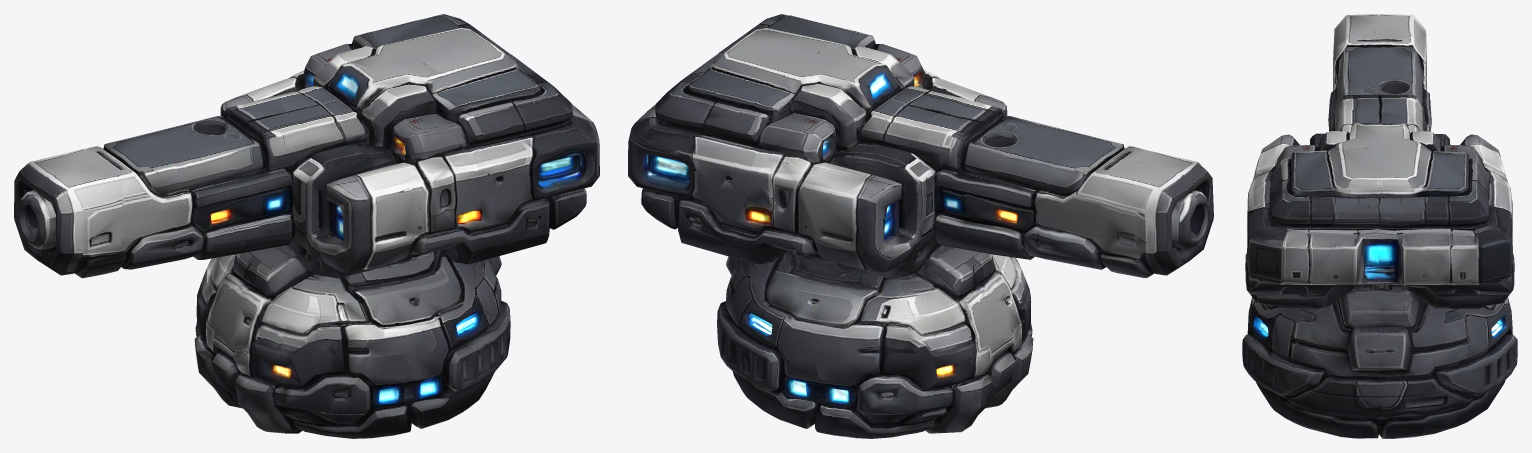
The model's file is dread_cannon.glb.
3 views of the same model, side by side, from view 1: azimuth 30°, elevation 25°; view 2: azimuth 150°, elevation 25°; view 3: azimuth 270°, elevation 25° (orthographic). The views are drawn at different scales.
Parts seen in each view (by area): view 1: mesh_node; view 2: mesh_node; view 3: mesh_node.
Part boxes in pixels (left/top/right/bottom): mesh_node: left=14, top=14, right=599, bottom=438; mesh_node: left=628, top=14, right=1213, bottom=438; mesh_node: left=1242, top=14, right=1517, bottom=438.
Bounding box in the file's own units: 1.9 × 1.14 × 1.
Materials: 1 (1 with a texture image).
